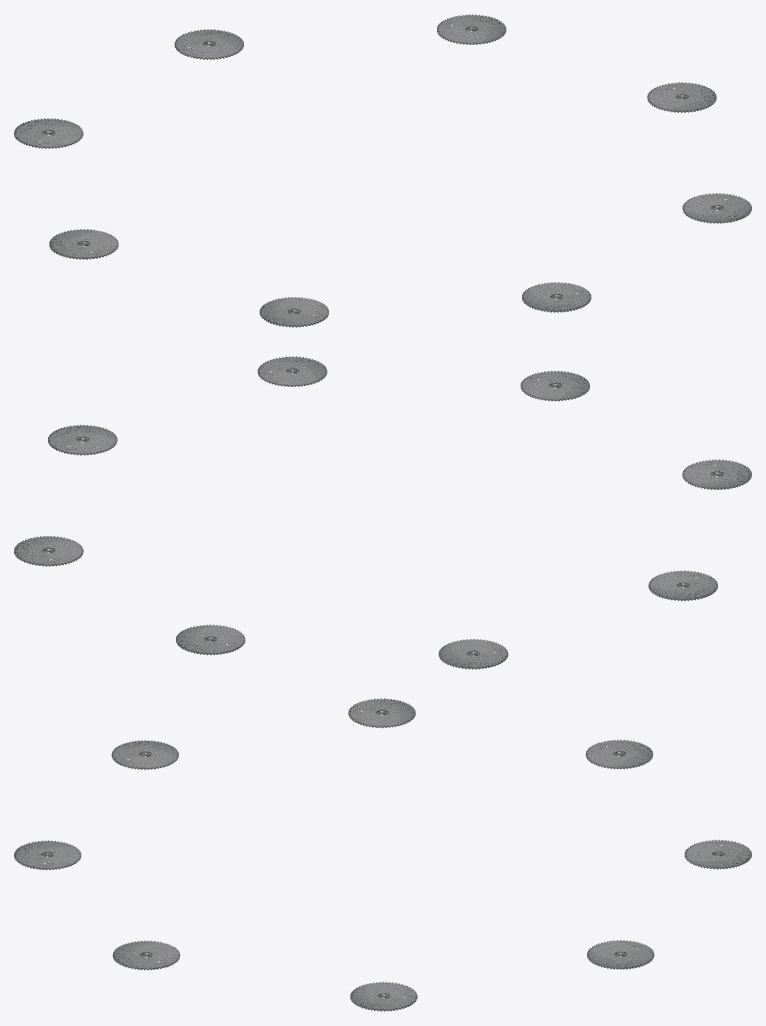
The picture shows the model from 3 angles, top to bottom: view 1: azimuth 30°, elevation 25°; view 2: azimuth 150°, elevation 25°; view 3: azimuth 270°, elevation 25°; orthographic projection. The views are drawn at different scales.
Visible parts, largest first — view 1: 12_HZ; view 2: 12_HZ; view 3: 12_HZ.
Part boxes in pixels (x1,y1,x2,y2): 12_HZ: [14, 14, 751, 327]; 12_HZ: [14, 356, 751, 669]; 12_HZ: [14, 698, 751, 1011].
Bounding box in the file's own units: 10519 × 20 × 10519.
